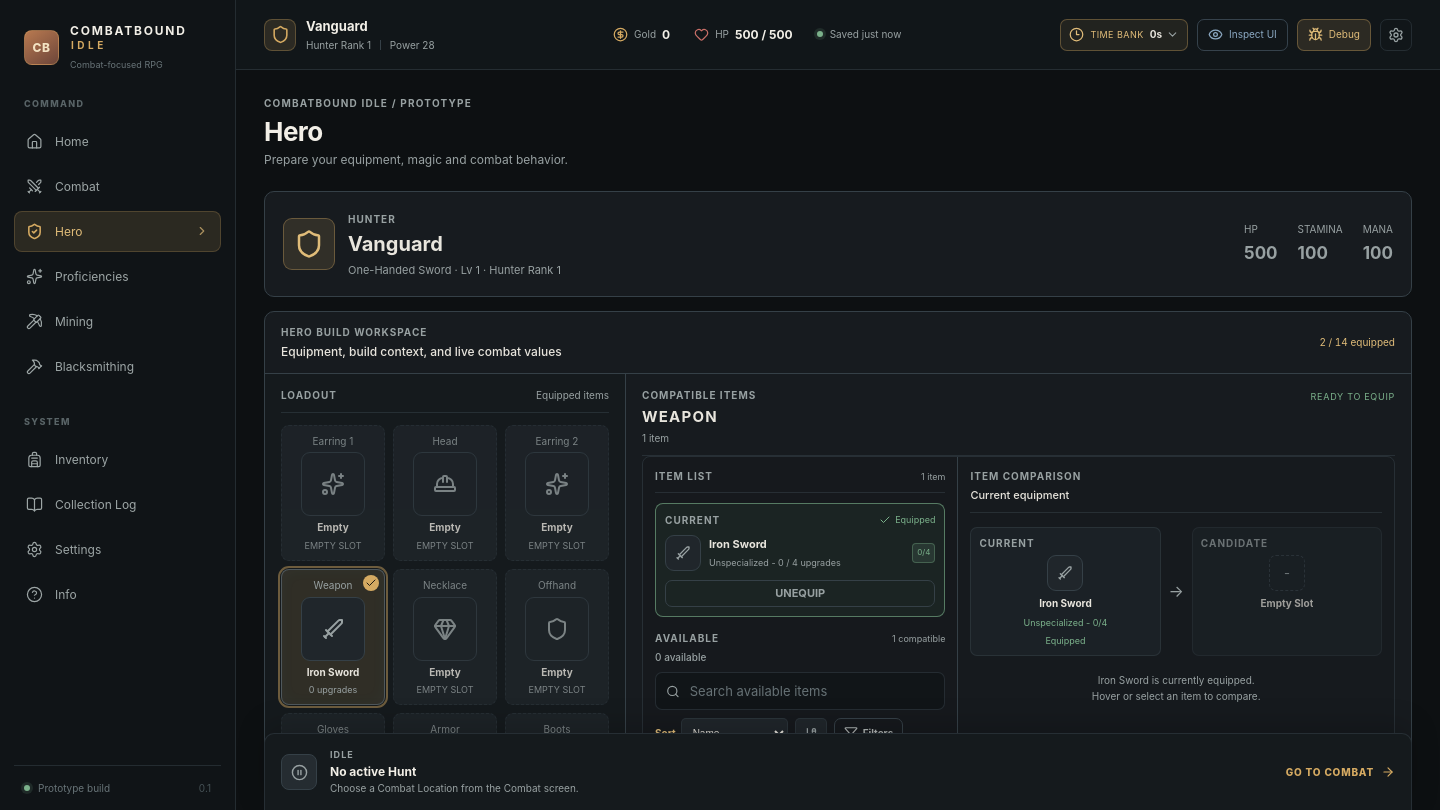
Test: combat information surfaces › renders the major Info reference sections from current data
The image size is (1440, 810).
Click the button "Info". click: point(118, 594)
box: [14,574,221,615]
(page scrolled)
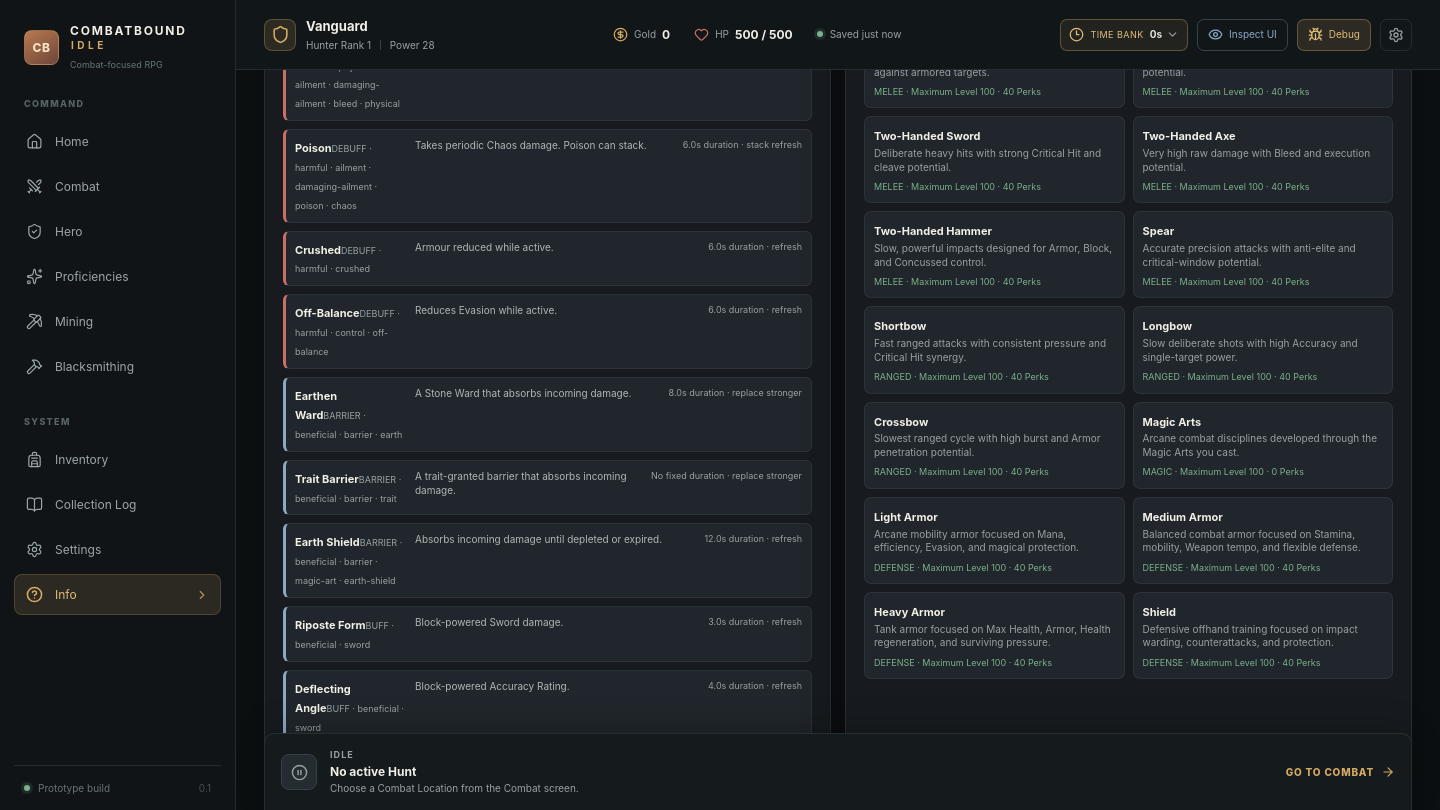
Expected: the text "Magic Arts" is shown, [1142,414,1201,428]
Expected: the text "Earthen Ward" is shown, [295,389,337,422]
